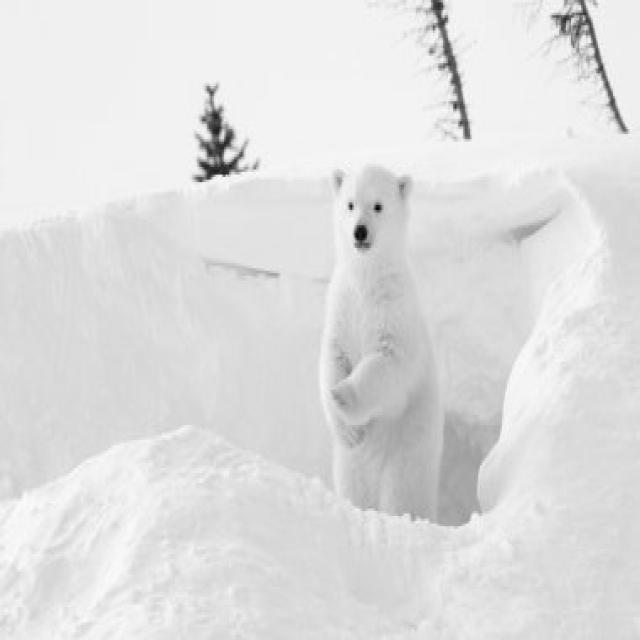Animal: (318, 155, 452, 521)
